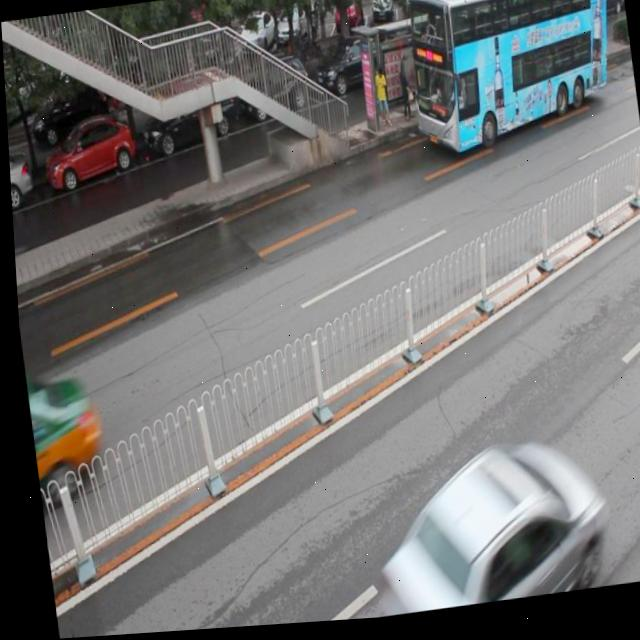car: (349, 435, 607, 622), (39, 114, 136, 196), (136, 89, 239, 163), (306, 38, 393, 111), (236, 58, 309, 125), (7, 147, 32, 208)
van: (396, 0, 622, 165)
